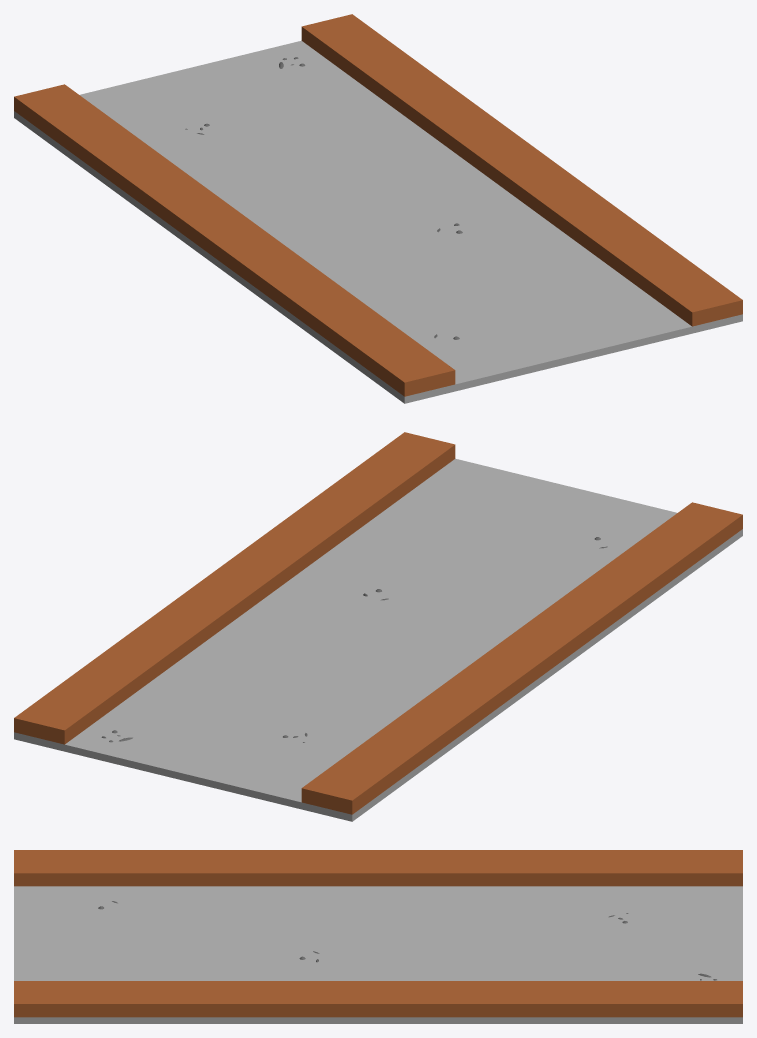
The model's file is ParkPath.fbx.
The picture shows the model from 3 angles, top to bottom: view 1: azimuth 30°, elevation 25°; view 2: azimuth 150°, elevation 25°; view 3: azimuth 270°, elevation 25°; orthographic projection. The views are drawn at different scales.
Parts seen in each view (by area): view 1: Cube; view 2: Cube; view 3: Cube.
Part boxes in pixels (x1,y1,x2,y2): Cube: [14, 14, 742, 403]; Cube: [14, 432, 742, 821]; Cube: [14, 850, 742, 1023].
Size of the model in its own units: 2000 by 130 by 4000.
